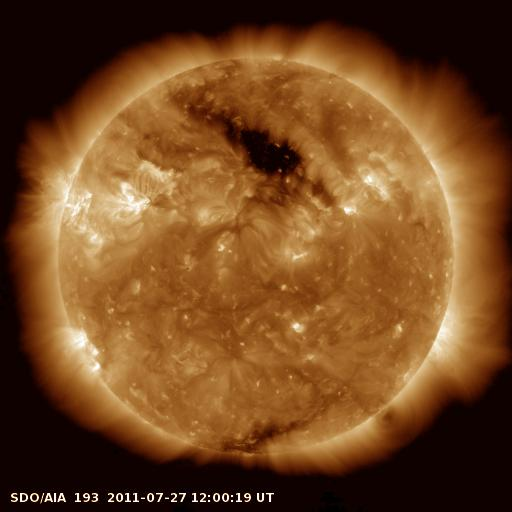coronal_hole: (198, 101, 305, 179), (214, 422, 301, 457)
